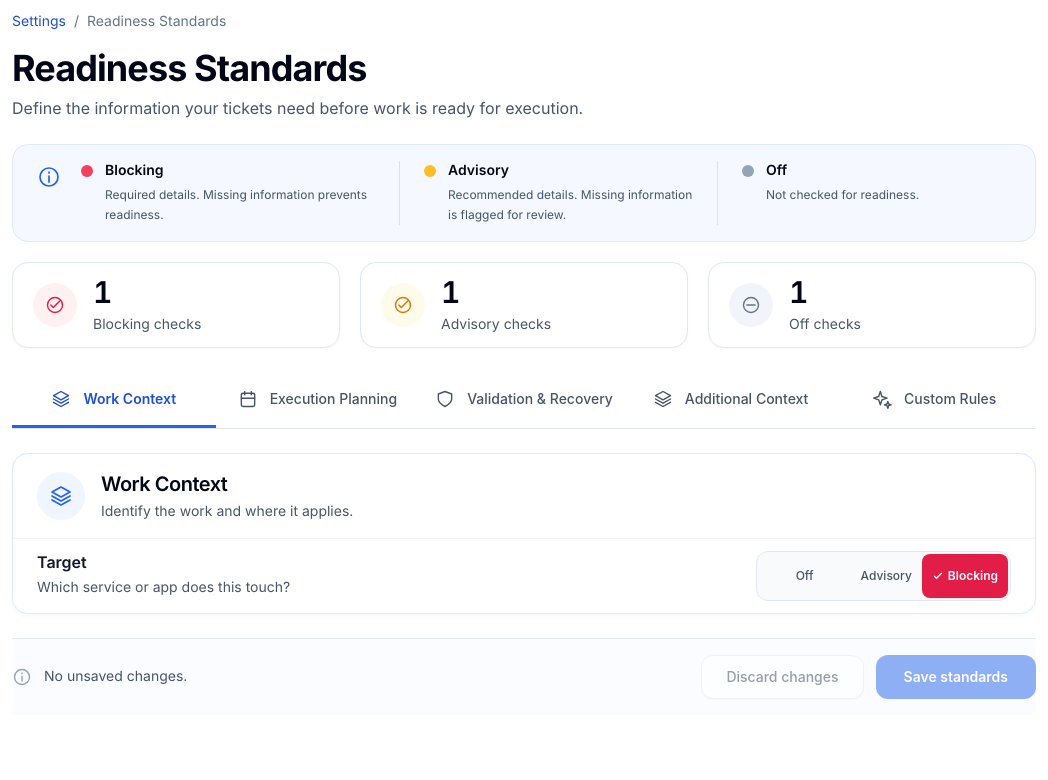
Test: ChecklistSettingsPage › waits for loaded settings and updates the summary and unsaved state as selections change
The image size is (1048, 780).
Expected: the button "Save standards" is disabled, x1=876 y1=655 x2=1036 y2=699
What coordinates should you click on to do the following:
click the button "Advisory"
I would click on:
 (878, 576)
Its box is x1=834 y1=554 x2=922 y2=598.
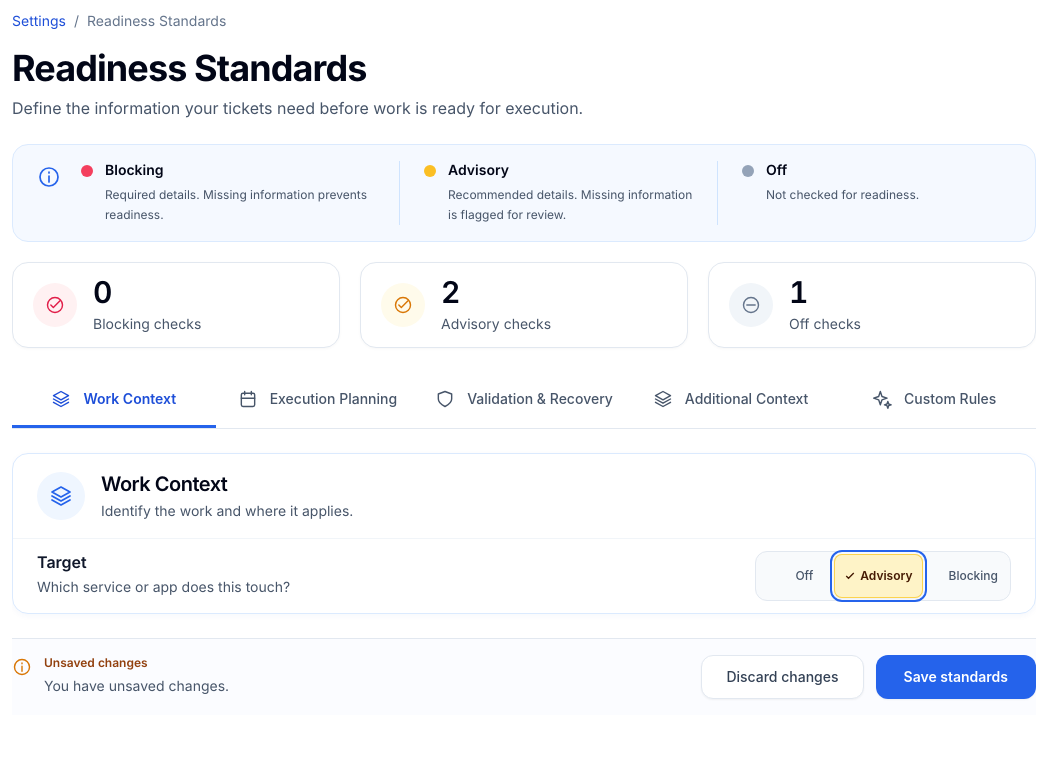
Result: the text "Unsaved changes" is shown at x1=44 y1=655 x2=148 y2=670
Result: the button "Save standards" is enabled at x1=876 y1=655 x2=1036 y2=699
What coordinates should you click on to do the following:
click the button "Blocking"
I would click on:
 (965, 576)
Its box is x1=922 y1=554 x2=1008 y2=598.
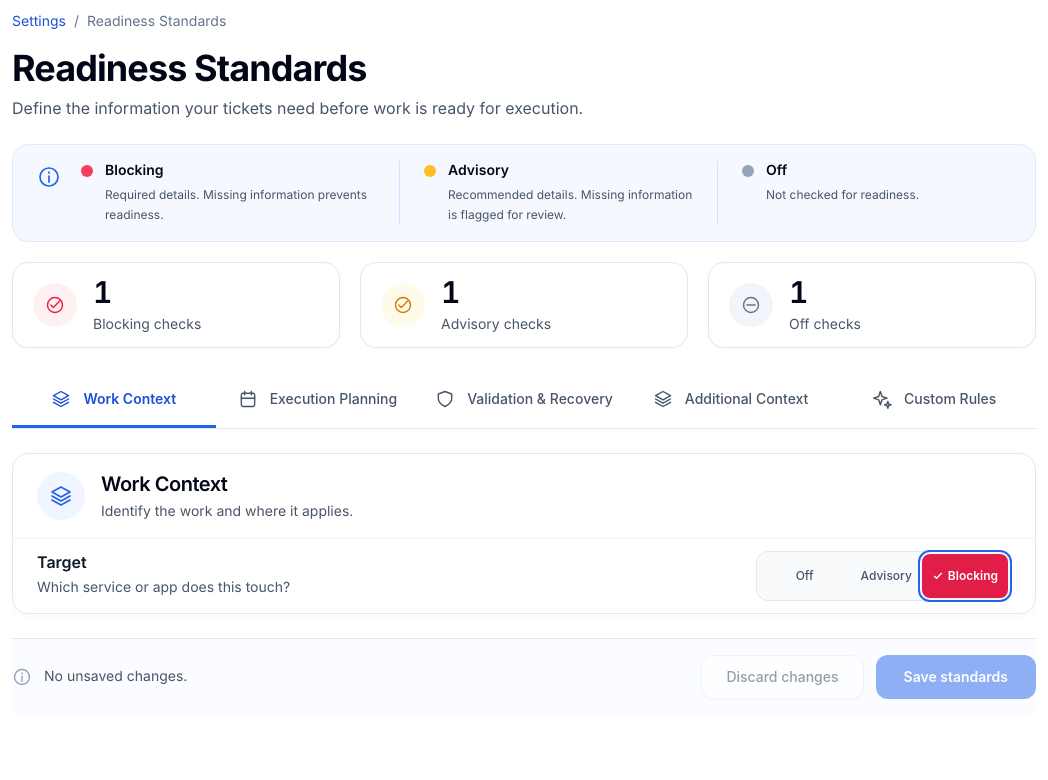
Result: the button "Save standards" is disabled at x1=876 y1=655 x2=1036 y2=699
